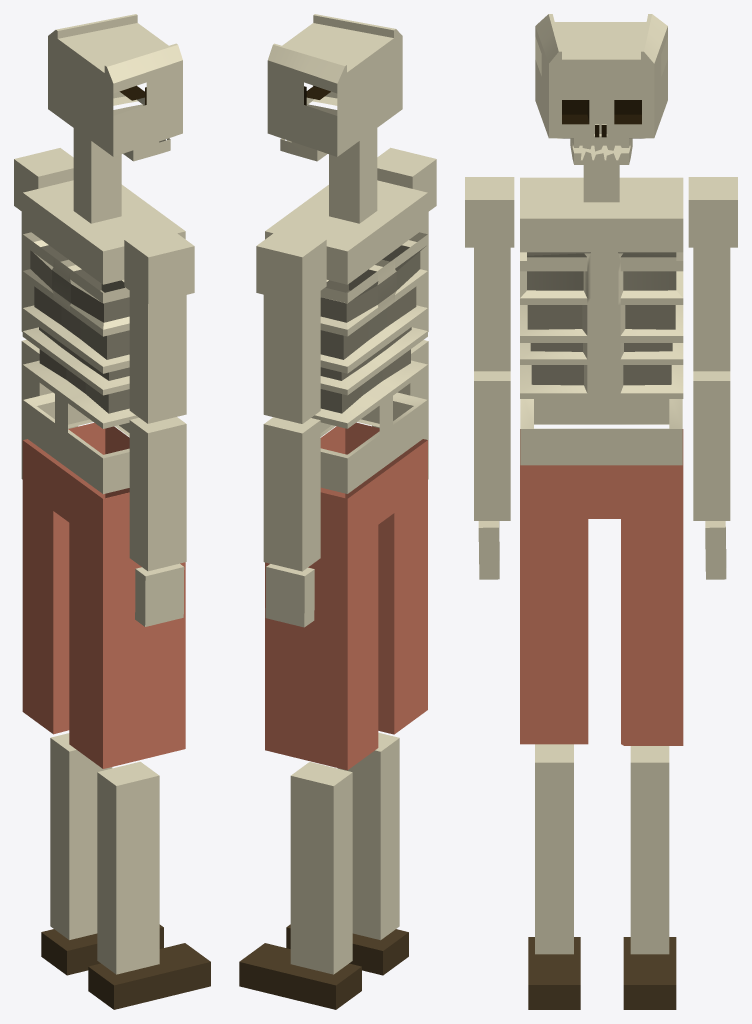
Rendered from enemy_skely_base.fbx.
3 views of the same model, side by side, from view 1: azimuth 30°, elevation 25°; view 2: azimuth 150°, elevation 25°; view 3: azimuth 270°, elevation 25° (orthographic).
Parts seen in each view (by area): view 1: enemy_skely; view 2: enemy_skely; view 3: enemy_skely.
Boxes of the visible parts, x1=… form: enemy_skely: x1=14, y1=14, x2=210, y2=1009; enemy_skely: x1=239, y1=14, x2=436, y2=1009; enemy_skely: x1=465, y1=14, x2=737, y2=1009.
Size of the model in its own units: 1.07 by 8.47 by 2.21.
